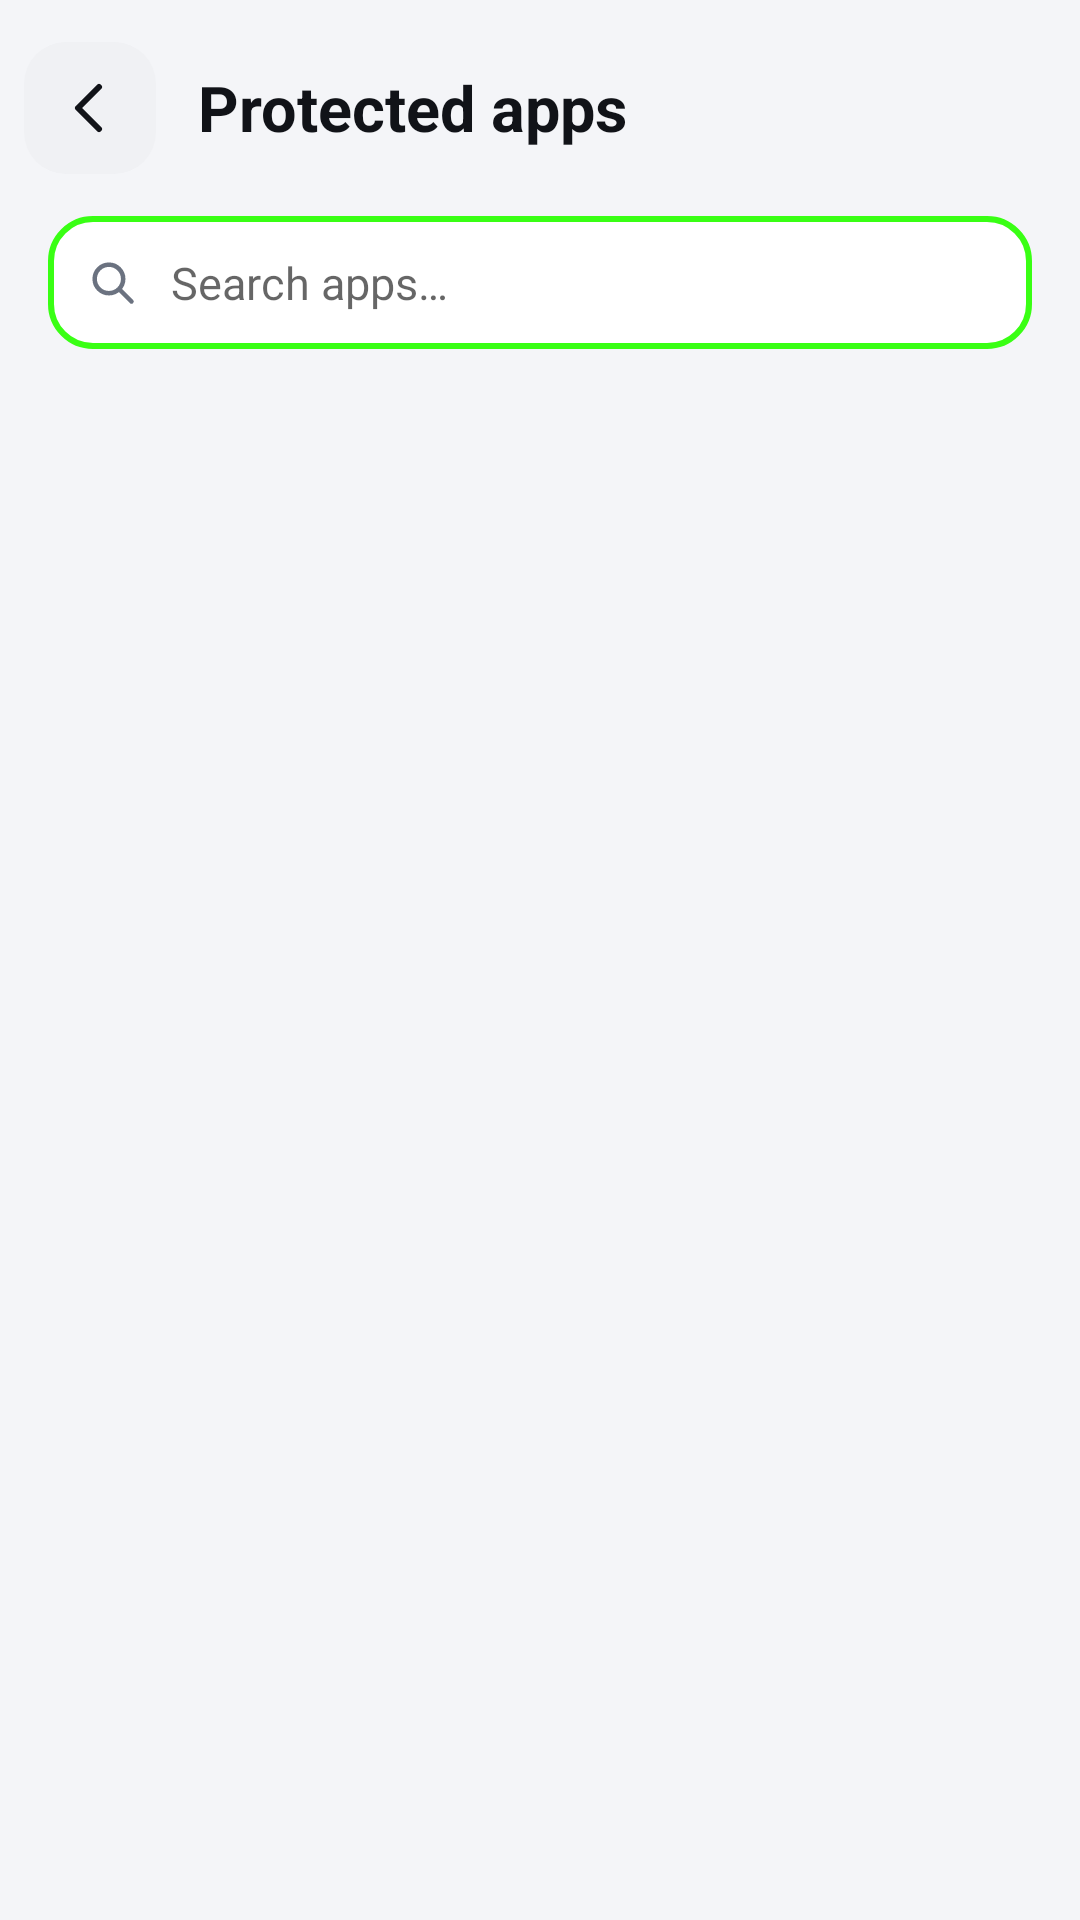

Point at icon controls on the screen. Image size 1080 x 1920, points as (x,y).
Back: (88,108)
